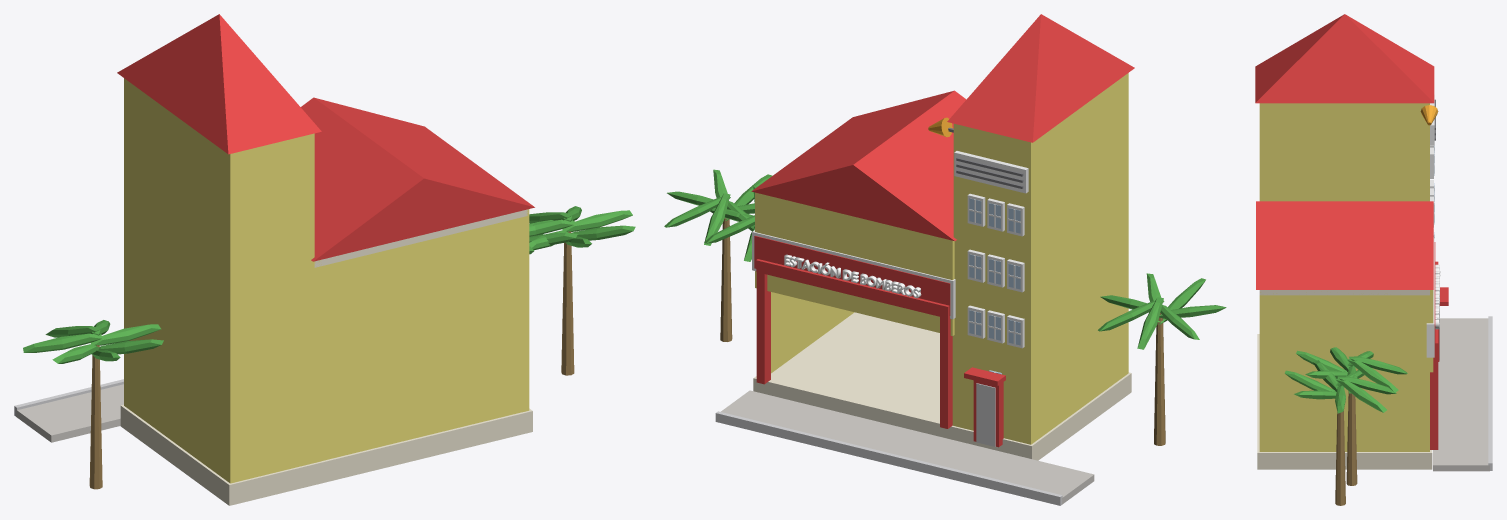
File: EstacionBomberos.glb
3 renders of one model, left to right at view 1: azimuth 30°, elevation 25°; view 2: azimuth 150°, elevation 25°; view 3: azimuth 270°, elevation 25°, orthographic. The views are drawn at different scales.
Parts seen in each view (by area): view 1: Torre, ParedTrasera, TechCuerpo, TechTorre, ZocCuerpo, ZocTorre, Acera, ParedDer, ParedIzq, Losa, tr_d2, tr_izq (+3 smaller); view 2: Torre, TechCuerpo, ZocCuerpo, TechTorre, Acera, Fach_faja_5.8, Bordillo, Fach_faja_-1.001, ParedDer, RotBg, ZocTorre, Fach_faja_5.001 (+12 smaller); view 3: ParedDer, Torre, TechCuerpo, TechTorre, Acera, ZocCuerpo, Losa, tr_d2, tr_d1, GMarcoR_1, Bordillo, hj_d2_1 (+8 smaller).
Part boxes in pixels (<box>): Torre: <box>124,78,314,483</box>; ParedTrasera: <box>321,217,522,460</box>; TechCuerpo: <box>301,97,534,261</box>; TechTorre: <box>117,14,321,154</box>; ZocCuerpo: <box>313,408,532,485</box>; ZocTorre: <box>120,404,317,505</box>; Acera: <box>16,384,123,442</box>; ParedDer: <box>522,209,529,412</box>; ParedIzq: <box>314,260,321,462</box>; Losa: <box>314,209,528,267</box>; tr_d2: <box>561,231,574,375</box>; tr_izq: <box>89,345,102,489</box>; Torre: <box>953,73,1128,444</box>; TechCuerpo: <box>751,90,966,240</box>; ZocCuerpo: <box>753,312,950,438</box>; TechTorre: <box>947,14,1134,142</box>; Acera: <box>721,390,1094,504</box>; Fach_faja_5.8: <box>800,203,872,316</box>; Bordillo: <box>715,411,1062,505</box>; Fach_faja_-1.001: <box>879,223,954,335</box>; ParedDer: <box>771,292,853,373</box>; RotBg: <box>754,235,950,315</box>; ZocTorre: <box>950,372,1131,460</box>; Fach_faja_5.001: <box>755,192,799,298</box>; ParedDer: <box>1259,292,1429,451</box>; Torre: <box>1259,103,1429,201</box>; TechCuerpo: <box>1256,201,1433,289</box>; TechTorre: <box>1255,14,1434,103</box>; Acera: <box>1433,318,1489,471</box>; ZocCuerpo: <box>1257,367,1432,469</box>; Losa: <box>1259,290,1429,295</box>; tr_d2: <box>1335,410,1345,505</box>; tr_d1: <box>1346,392,1357,485</box>; GMarcoR_1: <box>1430,353,1438,449</box>; Bordillo: <box>1488,316,1492,470</box>; hj_d2_1: <box>1336,378,1386,412</box>.
Size of the model in its own units: 38.73 by 27.51 by 16.7.
